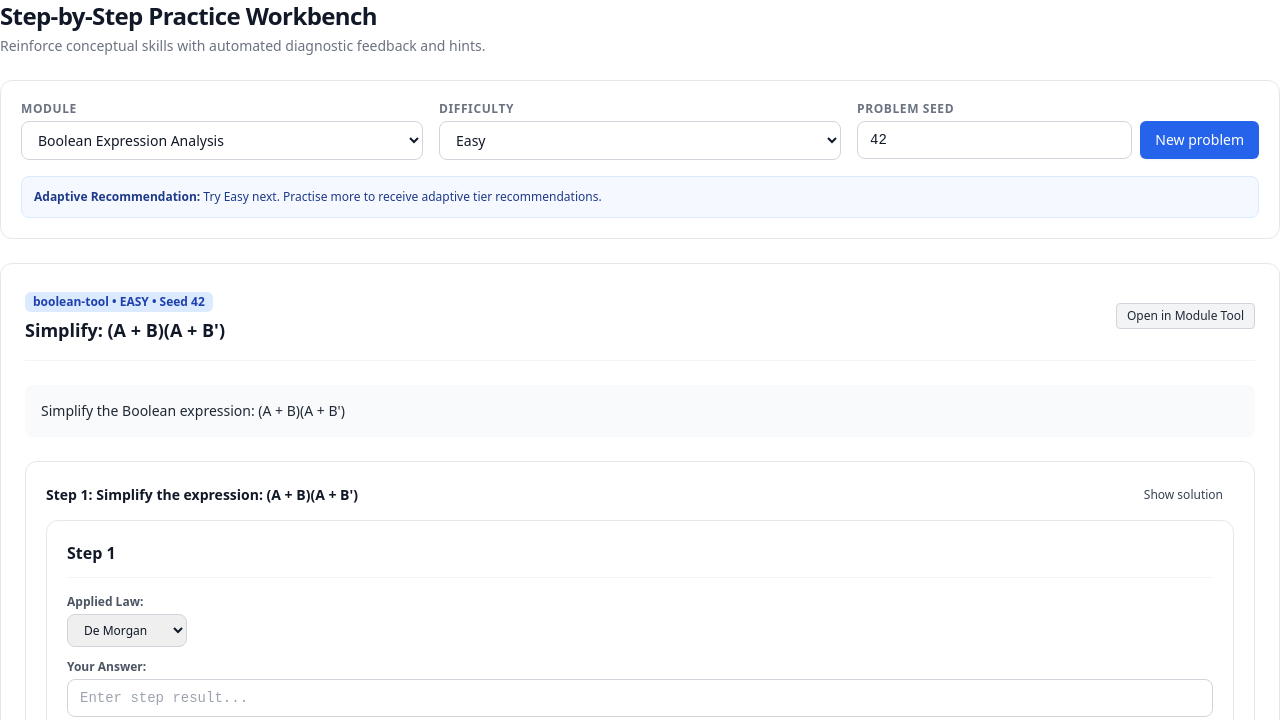
Test: PracticePage Component › clicking "Show solution" logs a level-3 assisted event and reveals the worked answer
Click the button "Show solution" at coordinates (1183, 495), box [1133,482,1234,508]
(page scrolled)
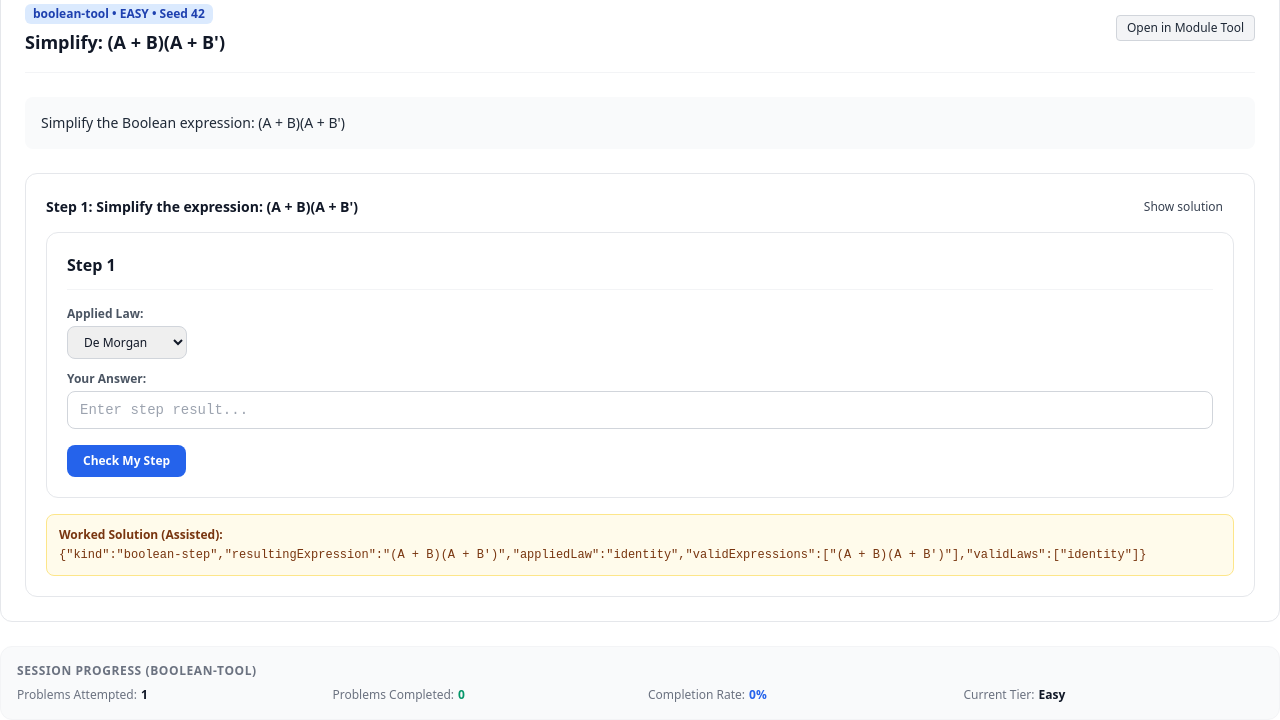
Result: the text "Worked Solution (Assisted):" is shown at [59,526,223,543]
